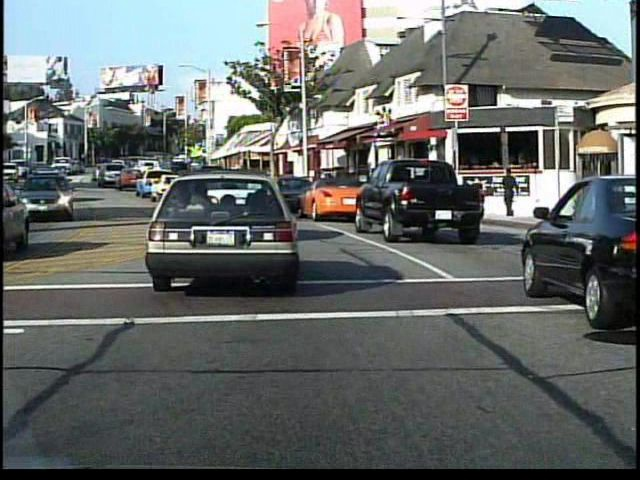person: (500, 168, 520, 222)
